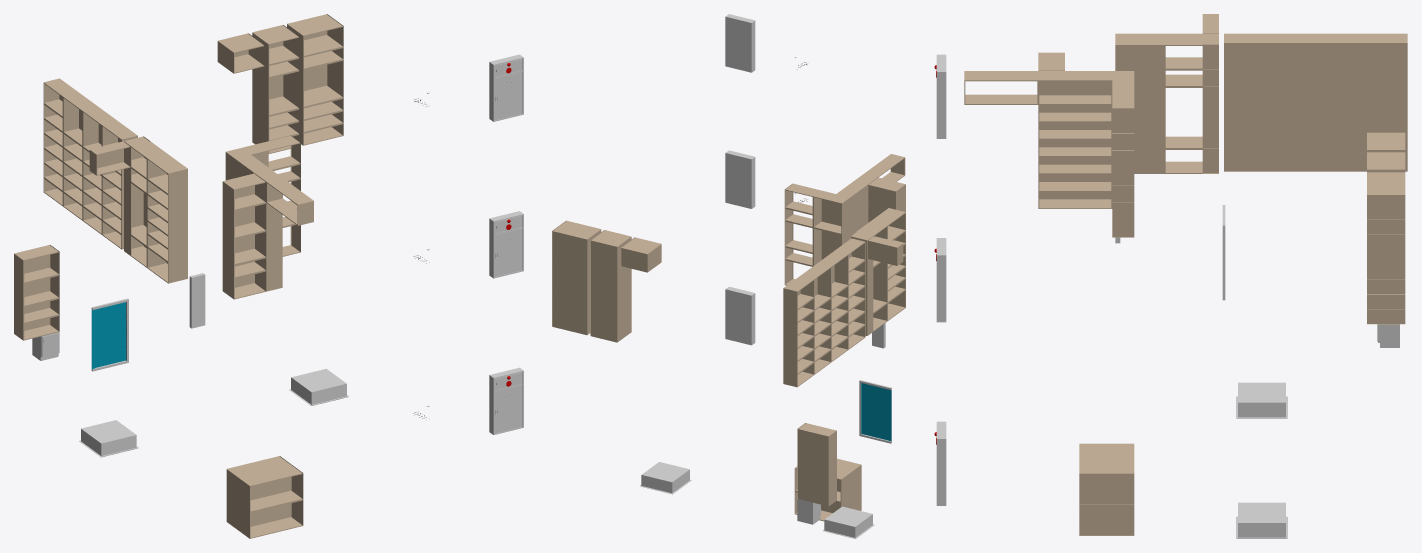
The picture shows the model from 3 angles, left to right: view 1: azimuth 30°, elevation 25°; view 2: azimuth 150°, elevation 25°; view 3: azimuth 270°, elevation 25°; orthographic projection. The views are drawn at different scales.
Bounding box in the file's own units: 7.84 × 11.2 × 8.64.
